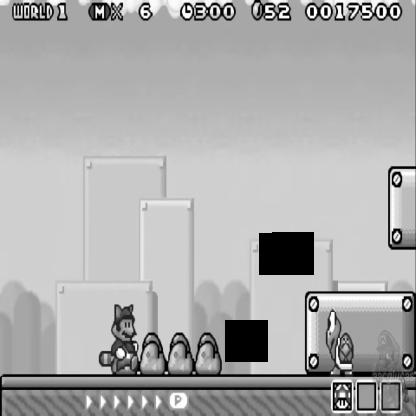Mario: (97, 300, 137, 374)
hongo: (332, 381, 352, 410)
koopa: (326, 310, 356, 378)
moneda: (250, 0, 264, 23)
